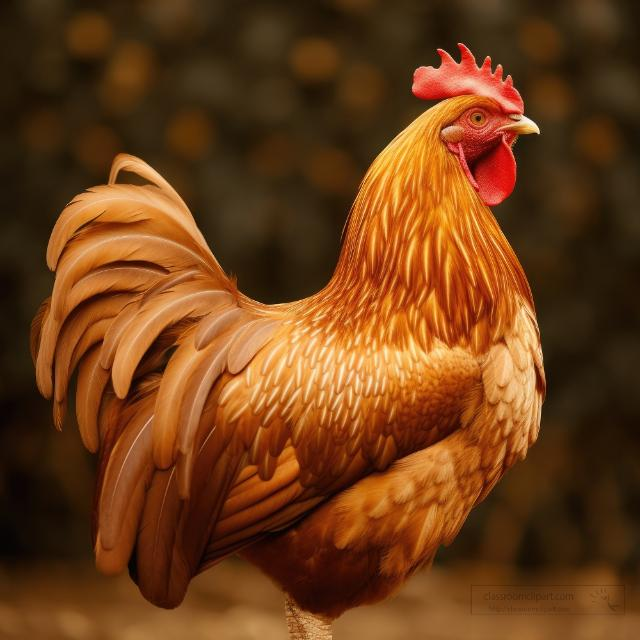Chicken: (31, 35, 550, 640)
